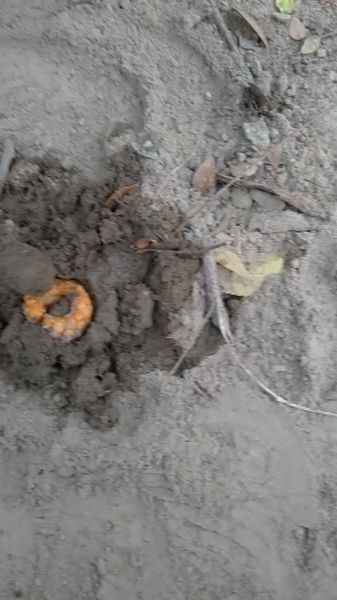eggs: (16, 276, 97, 347)
